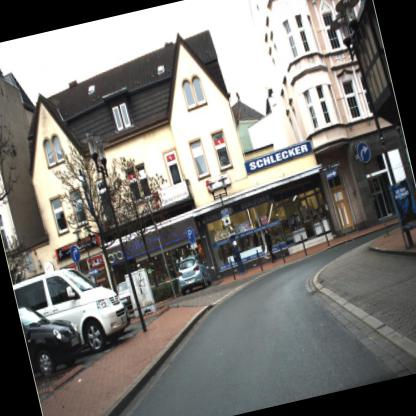mandatory: (354, 136, 375, 166), (66, 241, 86, 269)
